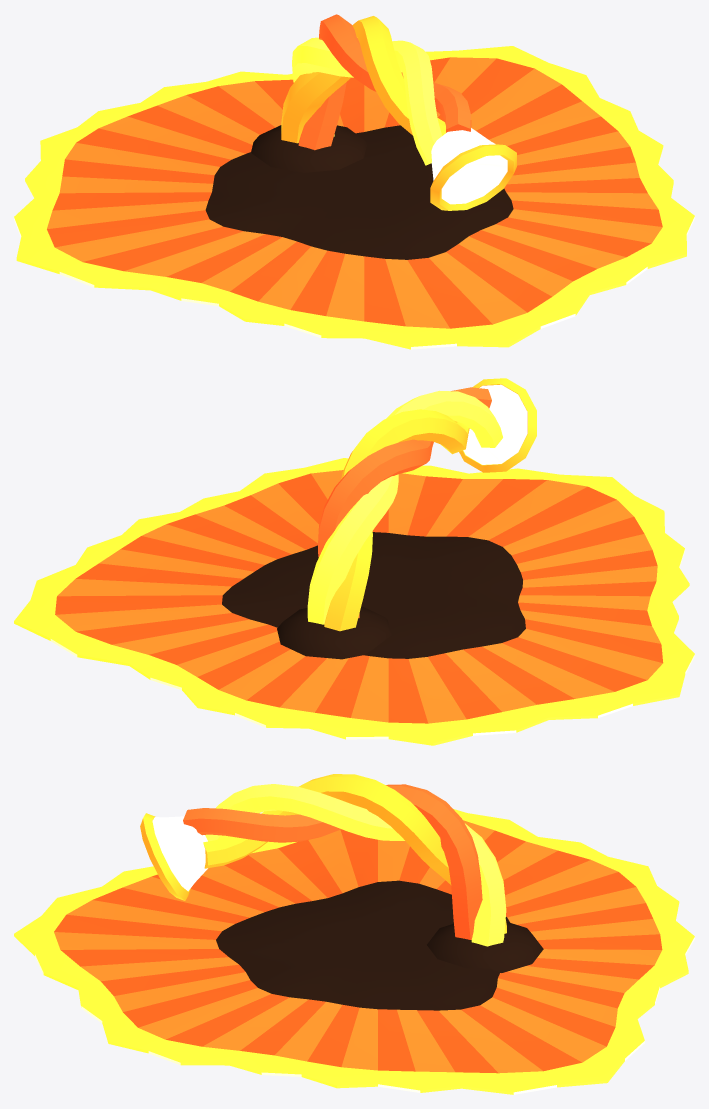
File: sunspot.glb
3 views of the same model, one above another, from view 1: azimuth 30°, elevation 25°; view 2: azimuth 150°, elevation 25°; view 3: azimuth 270°, elevation 25° (orthographic). The views are drawn at different scales.
Visible parts, largest first — view 1: body, head; view 2: body, head; view 3: body, head.
Boxes of the visible parts, box(x1,y1,x2,y2) form: body: box(14, 46, 694, 349); head: box(251, 14, 516, 210); body: box(14, 458, 694, 745); head: box(277, 378, 536, 659); body: box(14, 809, 694, 1094); head: box(140, 774, 543, 972).
Bounding box in the file's own units: 249 × 77.38 × 245.
